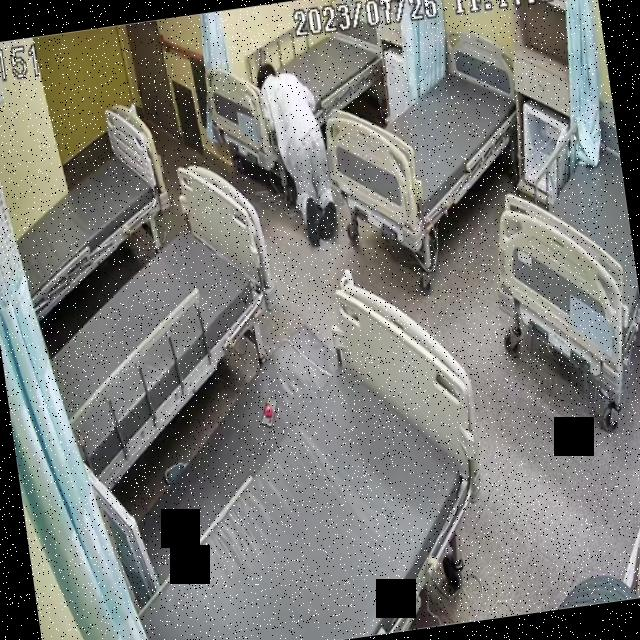bed: (97, 279, 496, 640), (22, 162, 294, 485), (477, 98, 640, 407), (313, 32, 532, 240), (0, 100, 181, 317), (203, 7, 394, 175)
fall: (248, 50, 342, 258)
patient: (250, 46, 345, 257)
